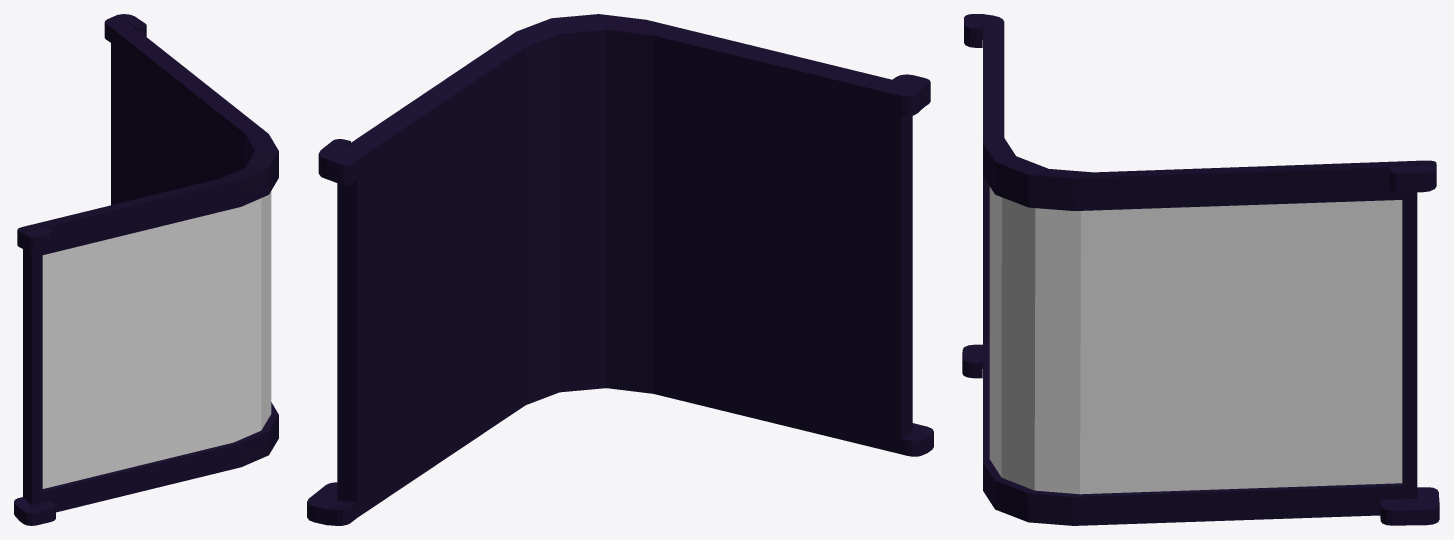
Rendered from NewBillboardCurved2.fbx.
The picture shows the model from 3 angles, left to right: view 1: azimuth 30°, elevation 25°; view 2: azimuth 150°, elevation 25°; view 3: azimuth 270°, elevation 25°; orthographic projection. The views are drawn at different scales.
Visible parts, largest first — view 1: Plane; view 2: Plane; view 3: Plane.
Boxes of the visible parts, x1,y1,x2,y2 form: Plane: [14, 14, 278, 525]; Plane: [307, 14, 933, 525]; Plane: [962, 14, 1439, 525].
Size of the model in its own units: 726 by 681 by 813.
